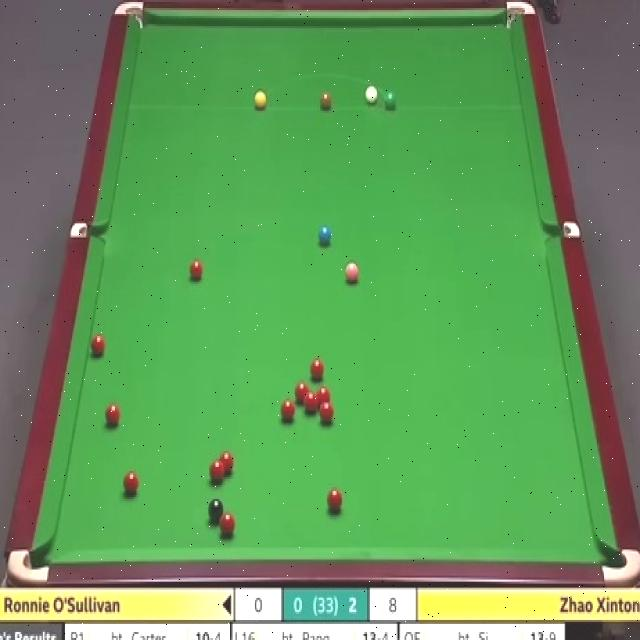black-ball: (207, 496, 225, 527)
blue-ball: (318, 224, 334, 248)
brown-ball: (319, 91, 333, 112)
green-ball: (382, 91, 397, 112)
pink-ball: (343, 258, 362, 286)
red-ball: (219, 513, 237, 541), (104, 401, 121, 429), (207, 460, 226, 485), (308, 356, 326, 382), (122, 470, 140, 496), (89, 332, 106, 358), (188, 258, 205, 281), (280, 398, 296, 422), (303, 391, 319, 415), (327, 488, 342, 513), (293, 381, 310, 402), (220, 450, 236, 472), (319, 401, 334, 424), (317, 386, 332, 404)
white-ball: (364, 82, 380, 109)
yellow-ball: (254, 90, 267, 111)
